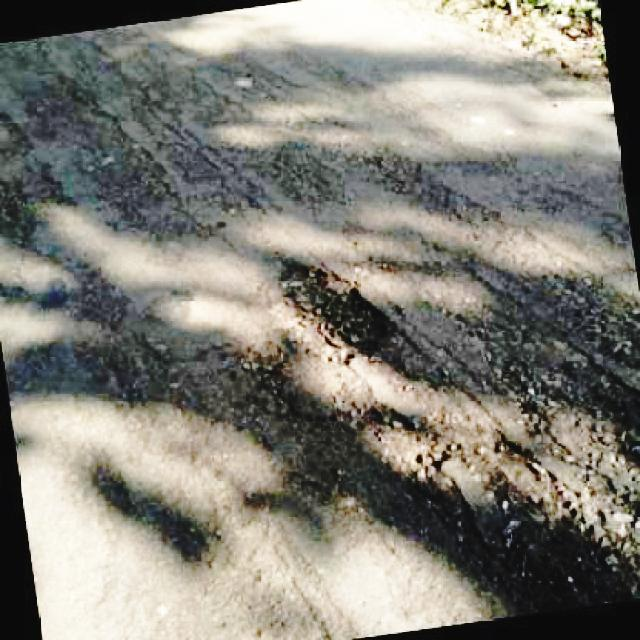pothole: (271, 257, 640, 611)
